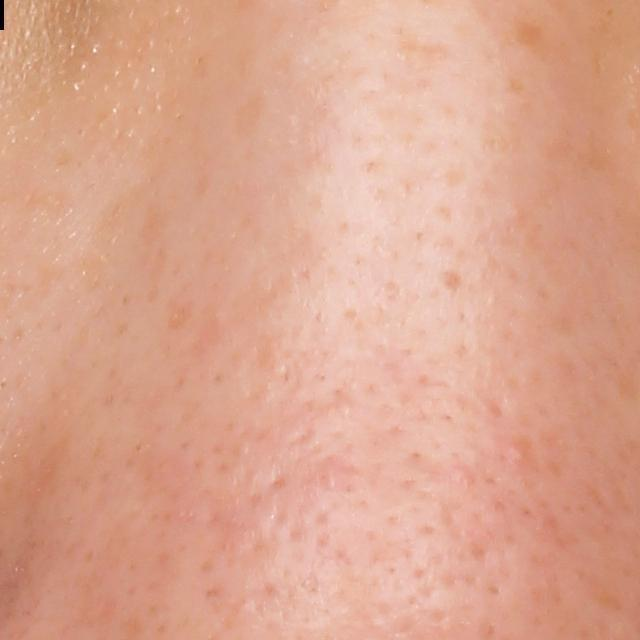atrophic_scar: (440, 267, 463, 297)
comedo: (509, 443, 532, 463)
melasma: (512, 16, 545, 55)
